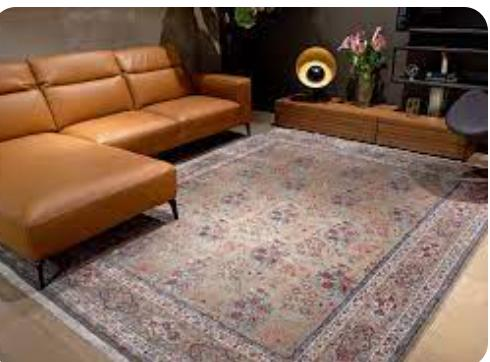carpet: (44, 128, 487, 361)
